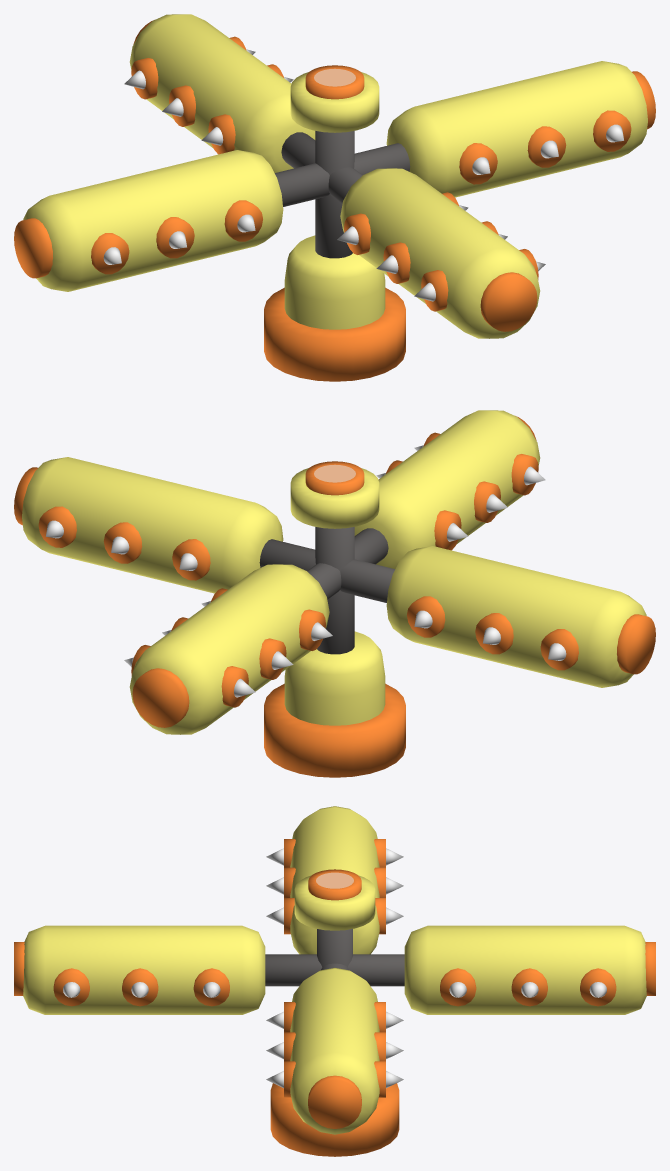
File: Obstacle 11 V3.fbx
3 views of the same model, one above another, from view 1: azimuth 30°, elevation 25°; view 2: azimuth 150°, elevation 25°; view 3: azimuth 270°, elevation 25° (orthographic). The views are drawn at different scales.
Parts seen in each view (by area): view 1: O11 Part 1, O11 Part 2; view 2: O11 Part 1, O11 Part 2; view 3: O11 Part 1, O11 Part 2.
Boxes of the visible parts, x1,y1,x2,y2 form: O11 Part 1: (14,14,655,338); O11 Part 2: (264,65,405,381); O11 Part 1: (14,410,655,734); O11 Part 2: (264,461,405,777); O11 Part 1: (14,806,655,1134); O11 Part 2: (270,869,399,1156).
Size of the model in its own units: 225 by 96.18 by 225.
1 material, 1 textured.
